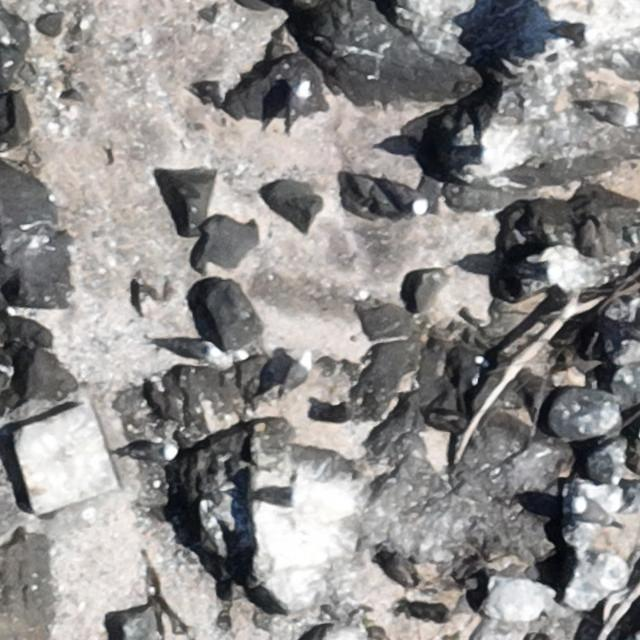umineko: (150, 335, 225, 364), (382, 181, 427, 216), (282, 349, 312, 396), (569, 498, 616, 526), (287, 79, 311, 130), (595, 105, 638, 127), (130, 441, 177, 461), (259, 487, 305, 506)
